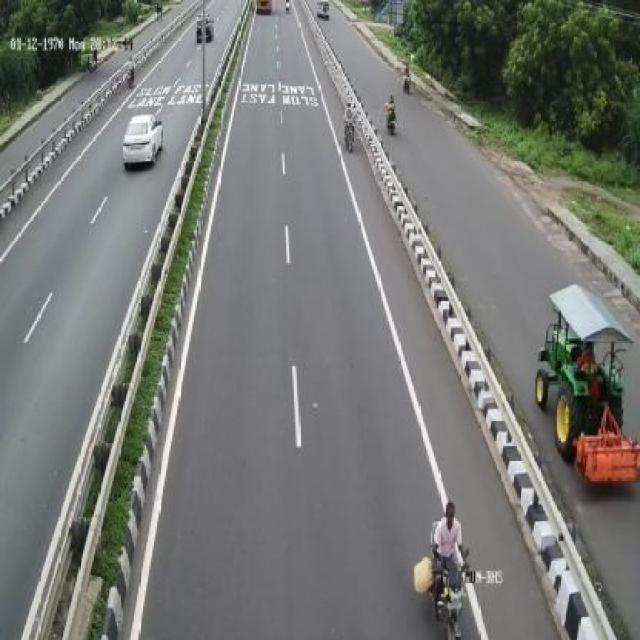car: (122, 110, 164, 168)
